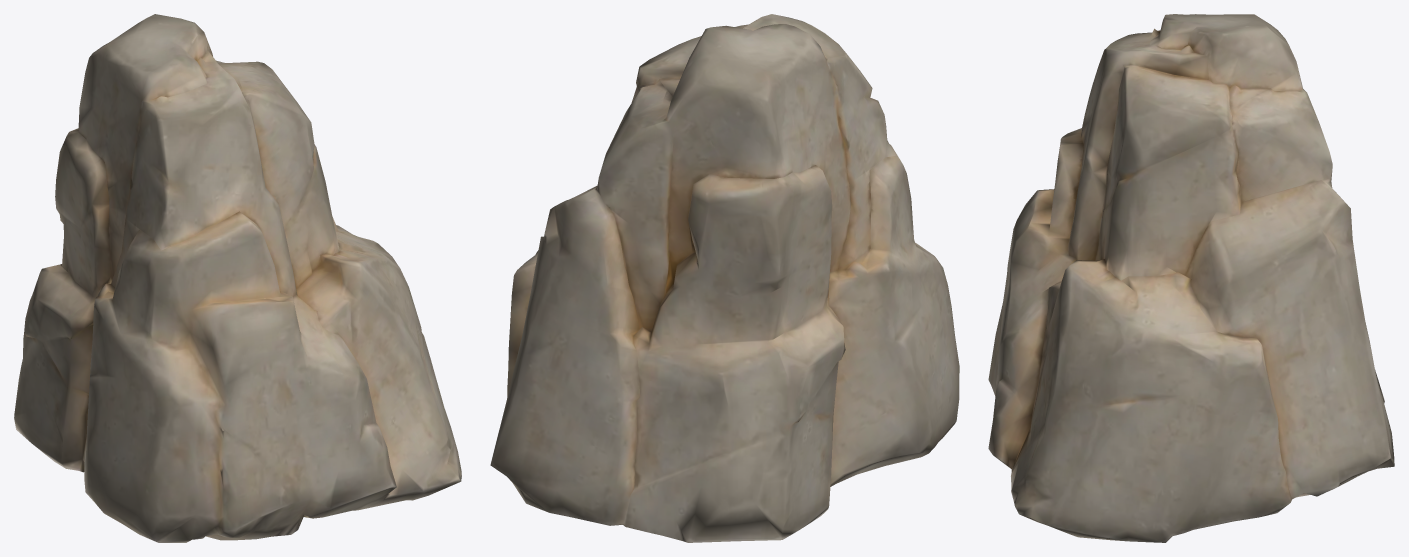
3 views of the same model, side by side, from view 1: azimuth 30°, elevation 25°; view 2: azimuth 150°, elevation 25°; view 3: azimuth 270°, elevation 25° (orthographic). The views are drawn at different scales.
Visible parts, largest first — view 1: SM_Limestone_Boulder_01_LOD0; view 2: SM_Limestone_Boulder_01_LOD0; view 3: SM_Limestone_Boulder_01_LOD0.
Boxes of the visible parts, x1,y1,x2,y2 form: SM_Limestone_Boulder_01_LOD0: (14, 14, 461, 542); SM_Limestone_Boulder_01_LOD0: (490, 14, 959, 542); SM_Limestone_Boulder_01_LOD0: (988, 14, 1394, 542).
Size of the model in its own units: 1.36 by 1.61 by 1.4.
Materials: 1 (1 with a texture image).
